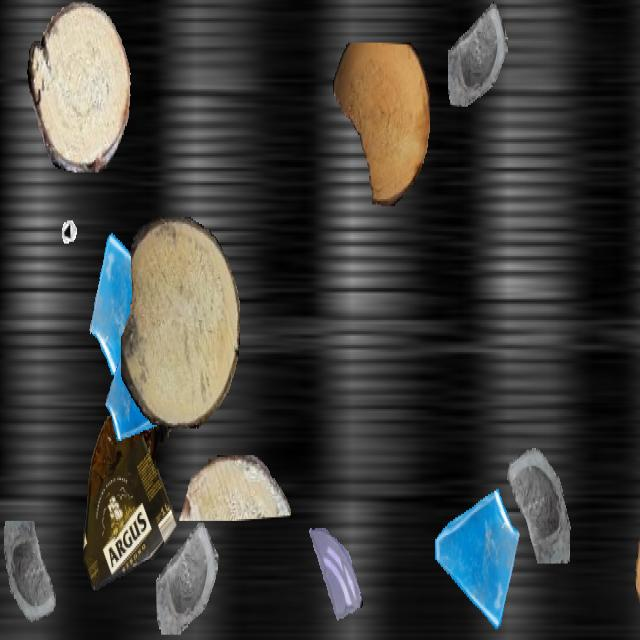glass: (87, 220, 179, 384), (431, 478, 521, 638), (497, 426, 573, 562), (0, 521, 65, 638), (105, 338, 169, 452), (156, 523, 218, 633), (448, 2, 508, 108), (306, 524, 364, 628)
metal: (59, 190, 97, 258)
plastic: (83, 398, 177, 590)
wood: (121, 217, 239, 427), (27, 2, 131, 172), (333, 43, 429, 206), (177, 455, 291, 519), (635, 496, 640, 638)
